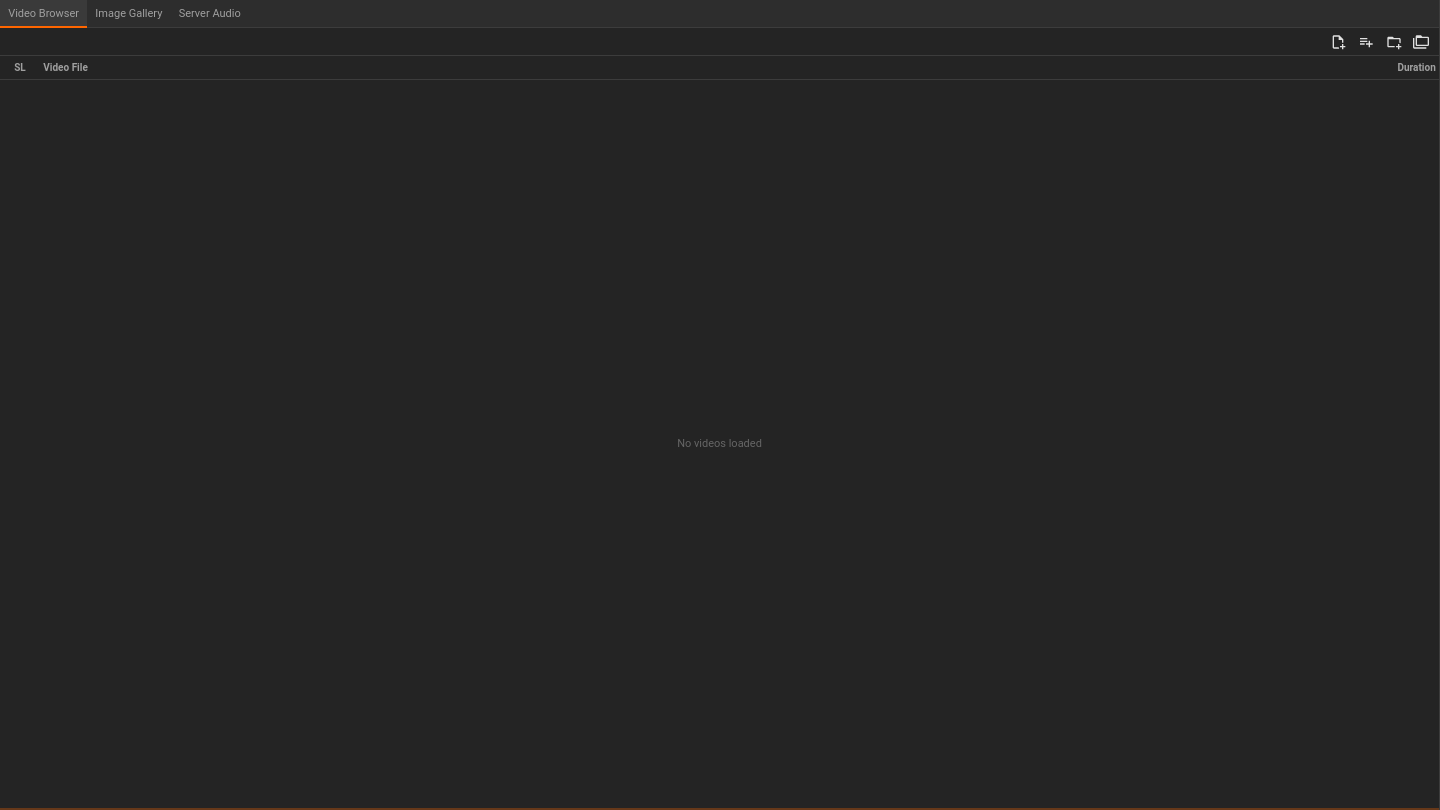
Test: LeftTabPanel › tab switching works
Click the Image Gallery tab
Click the tab with test id "tab-trigger-image". click: (129, 14)
box: [87,0,170,28]
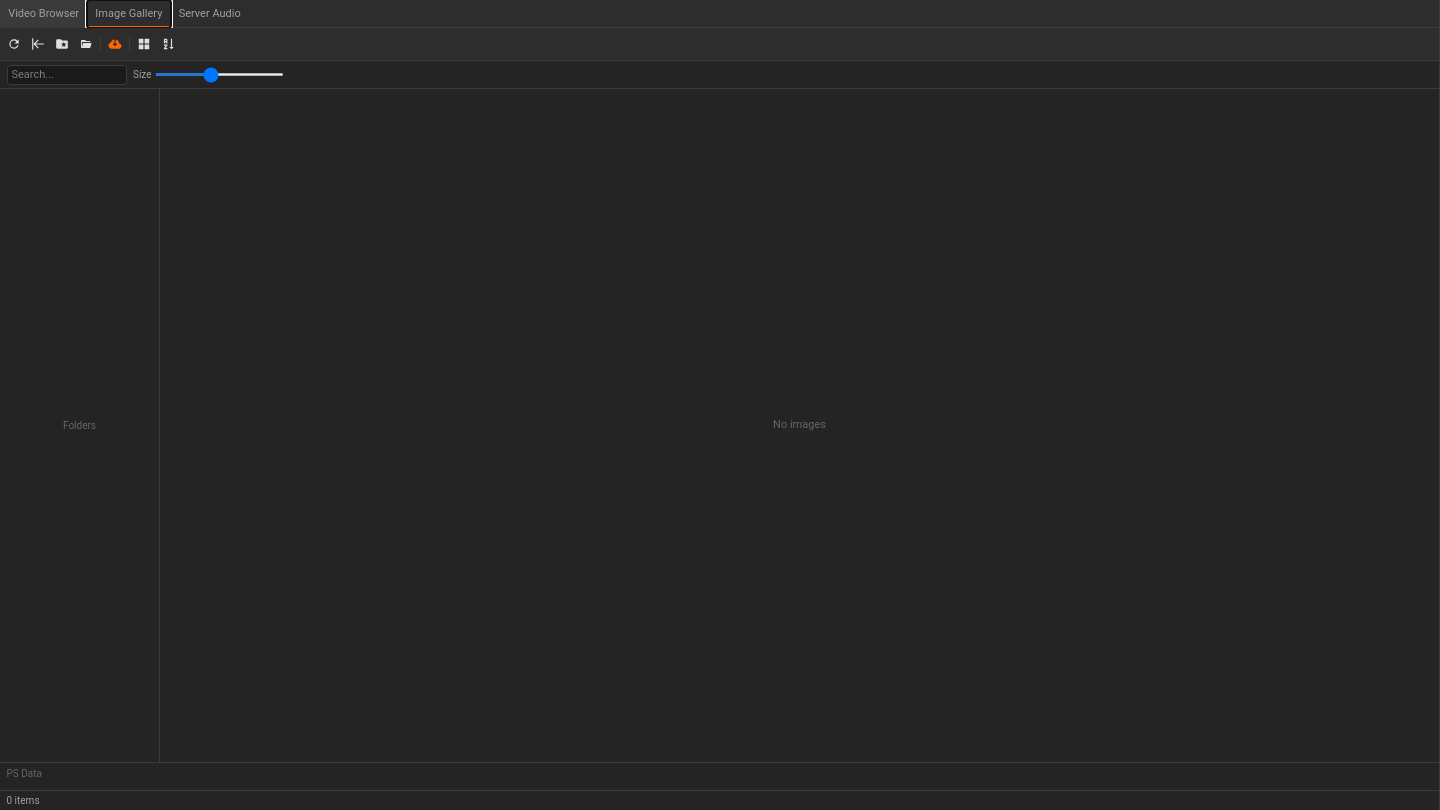
Result: the panel with test id "tab-content-image" is shown
Result: the panel with test id "tab-content-video" is gone
Click the Server Audio tab
Click the tab with test id "tab-trigger-audio". click: (210, 14)
box: [170,0,249,28]
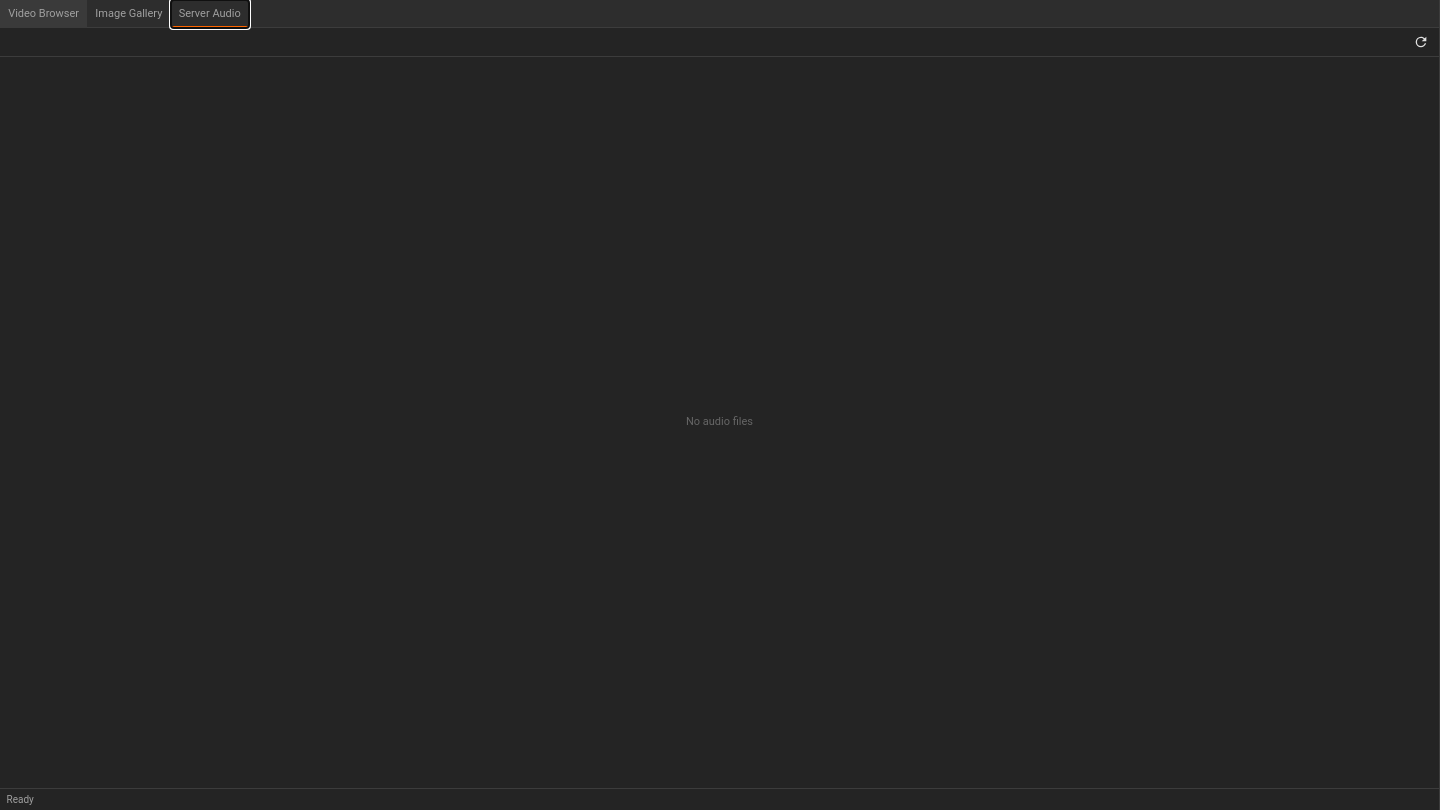
Result: the panel with test id "tab-content-audio" is shown
